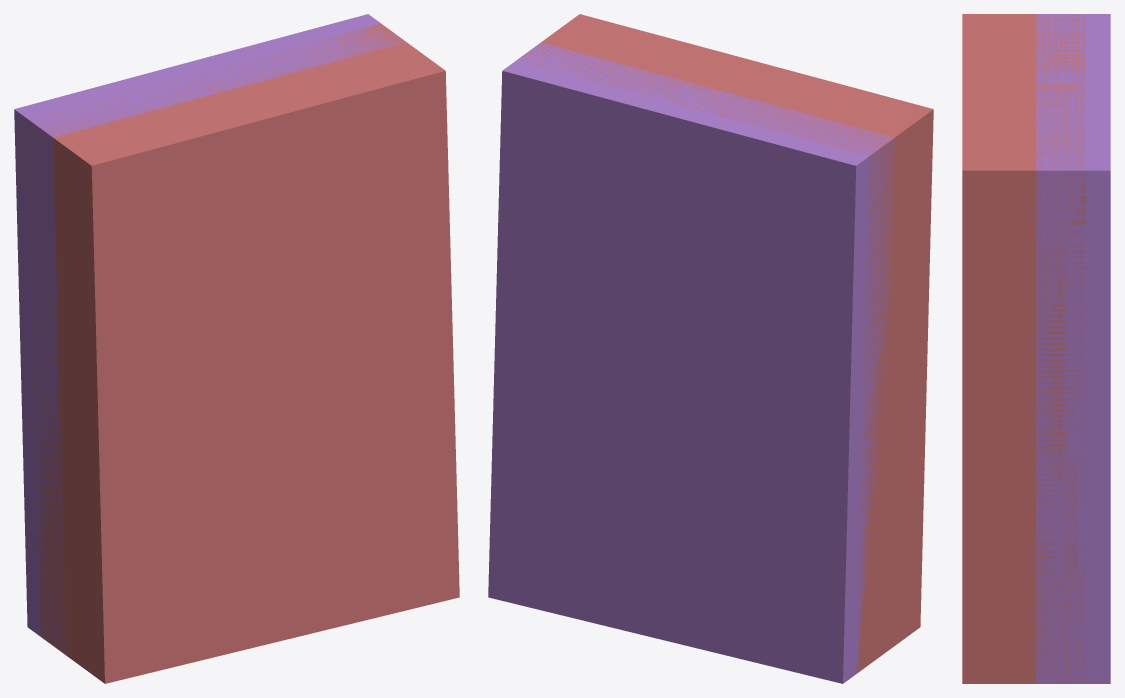
Rendered from airspace_intrusion.glb.
3 views of the same model, side by side, from view 1: azimuth 30°, elevation 25°; view 2: azimuth 150°, elevation 25°; view 3: azimuth 270°, elevation 25° (orthographic). The views are drawn at different scales.
Visible parts, largest first — view 1: geometry_1, geometry_0; view 2: geometry_0, geometry_1; view 3: geometry_1, geometry_0.
Part boxes in pixels (x1,y1,x2,y2): geometry_1: (27, 23, 459, 683); geometry_0: (14, 14, 406, 654); geometry_0: (488, 42, 894, 683); geometry_1: (516, 14, 933, 673); geometry_1: (962, 14, 1085, 683); geometry_0: (1036, 14, 1110, 683).
Bounding box in the file's own units: 16.44 × 22.62 × 6.
